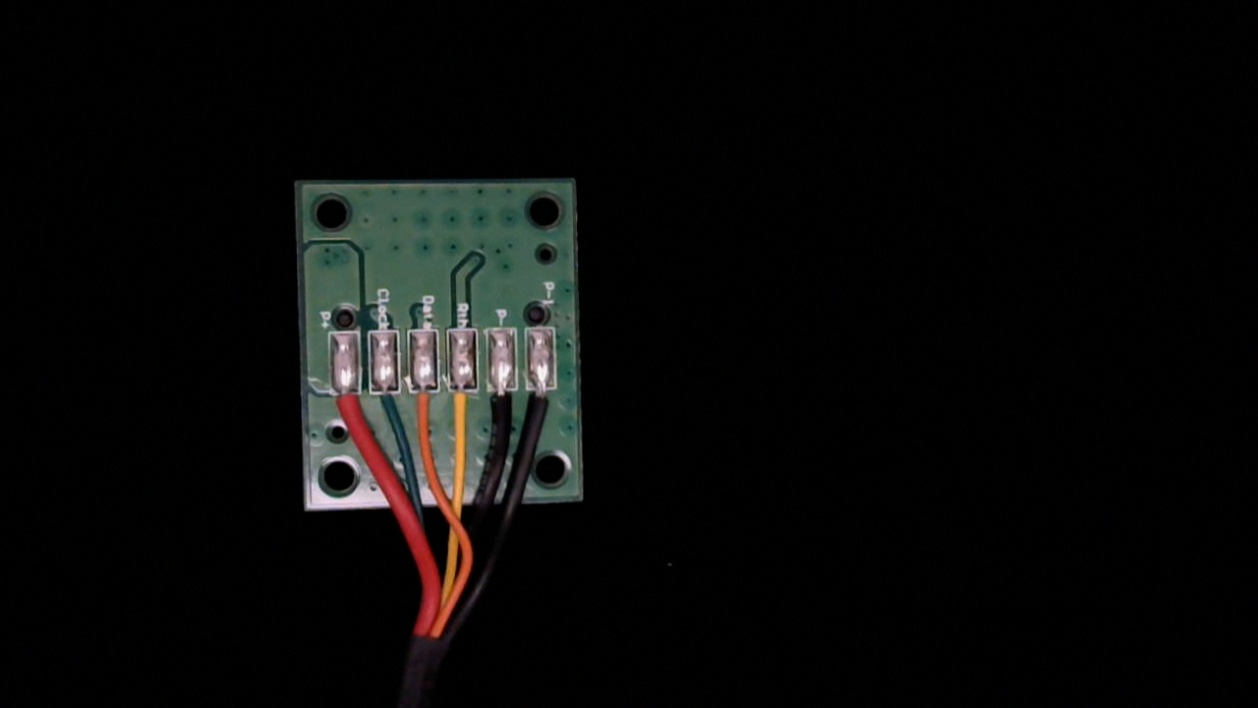Black: (484, 372, 518, 444)
Black1: (525, 374, 559, 440)
Green: (370, 373, 403, 429)
Orange: (409, 374, 442, 436)
Red: (332, 370, 367, 439)
Yellow: (444, 374, 479, 447)
